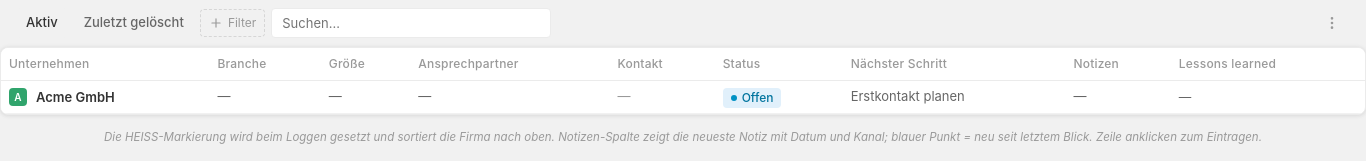
Test case: CompanyTable › right-click context menu delete (Addition 3) › Abbrechen in the confirm step closes the menu without deleting
The image size is (1366, 161).
Right-click the text "Acme GmbH" at (683, 97), box [1,80,1365,114]
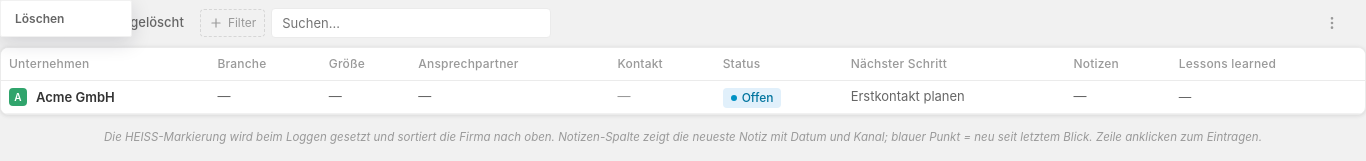
Click the button "Löschen" at (66, 18), box [5,5,127,32]
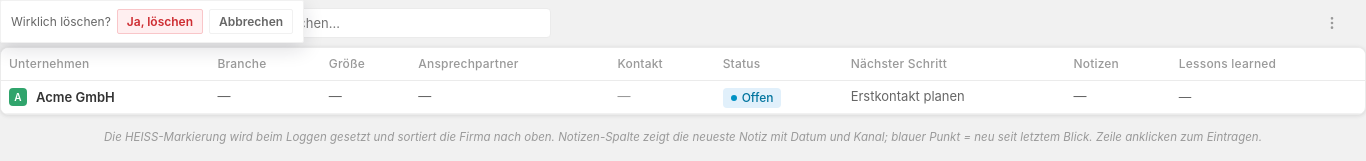
Click the button "Abbrechen" at (251, 22), box [209,9,293,34]
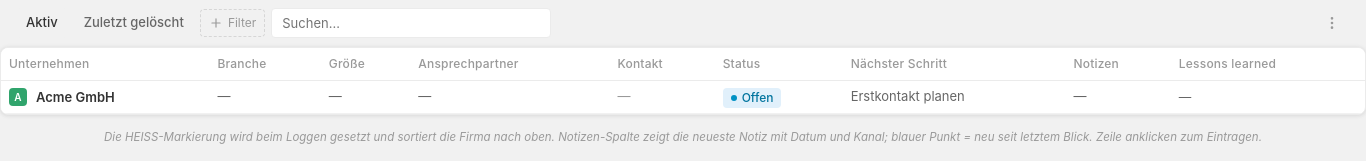
Expected: the menu is gone
